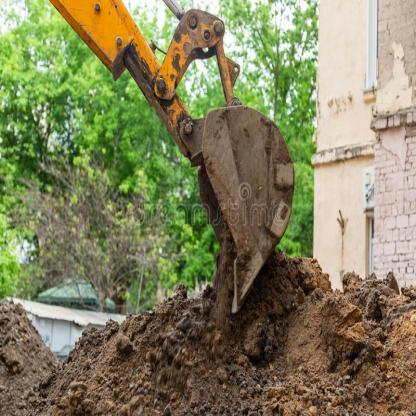excavator: (41, 0, 303, 320)
